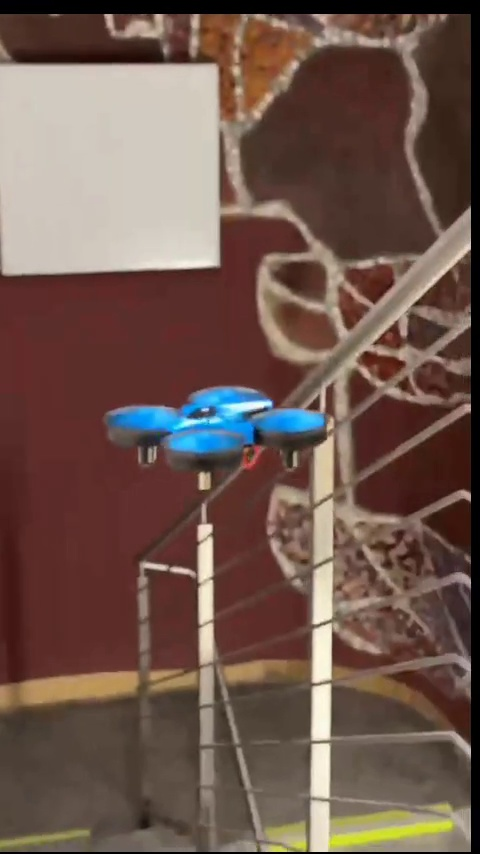drone: (102, 383, 320, 488)
